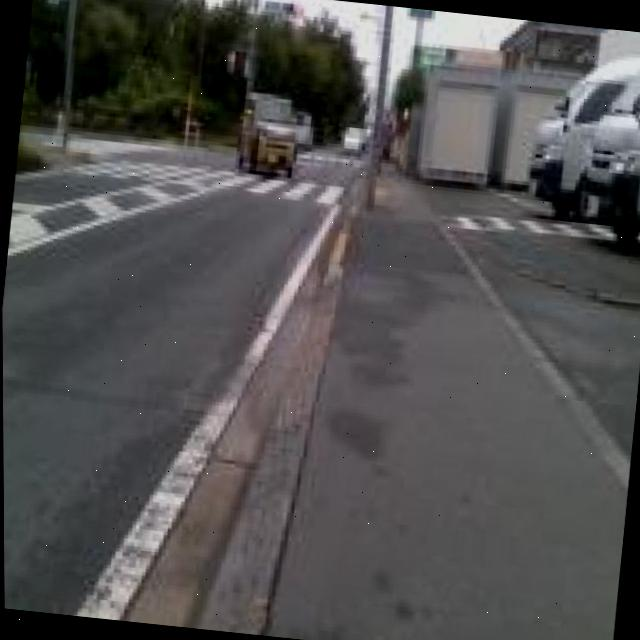Automobile: (529, 55, 640, 245), (238, 91, 311, 175), (341, 128, 370, 150)
Obstacle: (365, 5, 395, 208), (59, 0, 76, 152)
Road: (2, 135, 359, 627)
Sidewalk: (270, 166, 627, 640)
